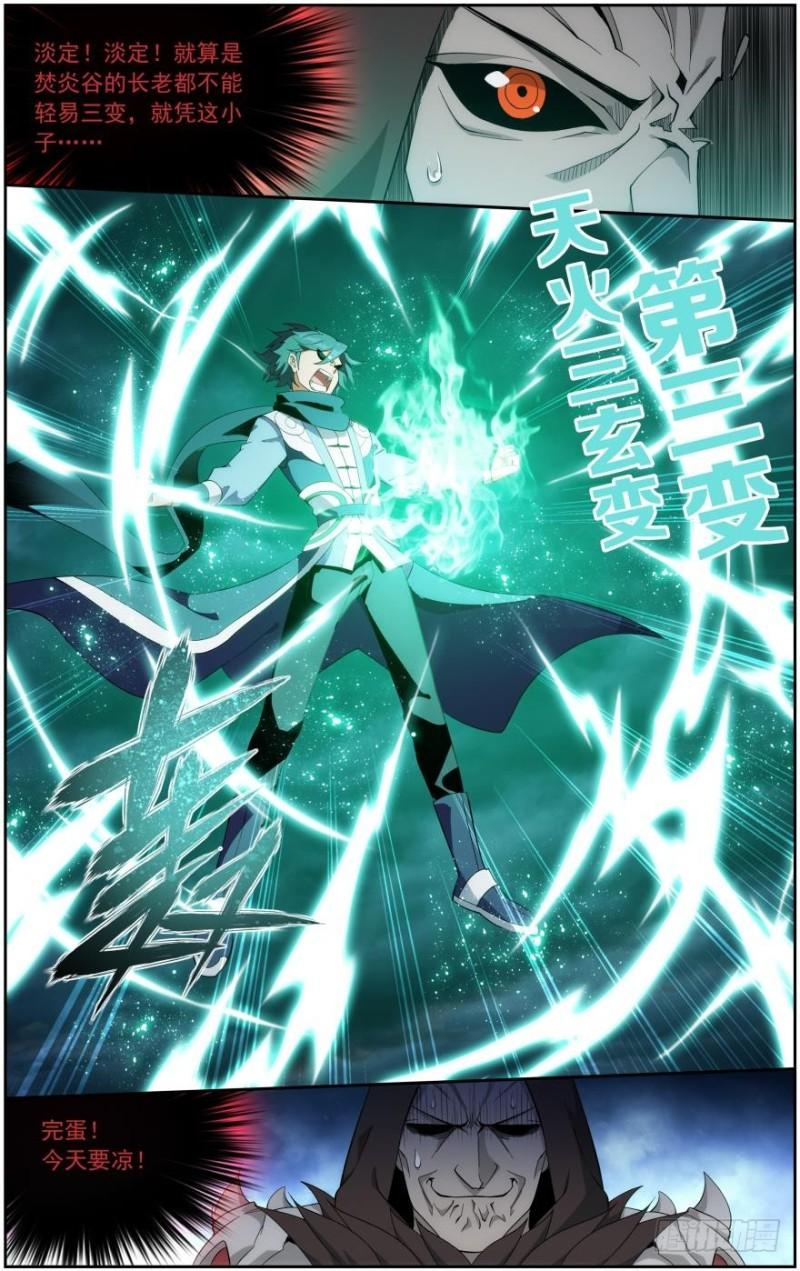boxBad: (0, 0, 352, 196), (0, 1087, 261, 1261)
minBox: (0, 182, 792, 1096), (0, 0, 798, 224), (0, 1057, 795, 1267)
